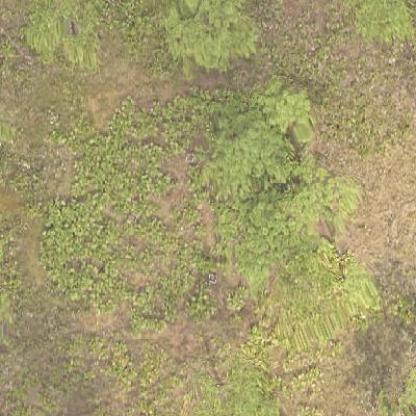tree-top: (178, 81, 323, 196), (156, 1, 268, 69), (211, 203, 299, 280), (7, 2, 105, 62), (291, 163, 367, 227), (350, 0, 415, 50)
